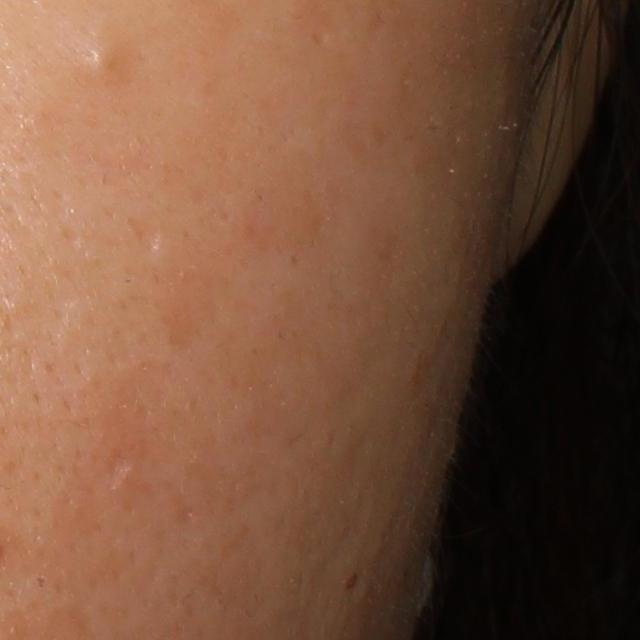atrophic_scar: (127, 217, 160, 254), (109, 453, 130, 487)
comedo: (86, 43, 127, 79)
